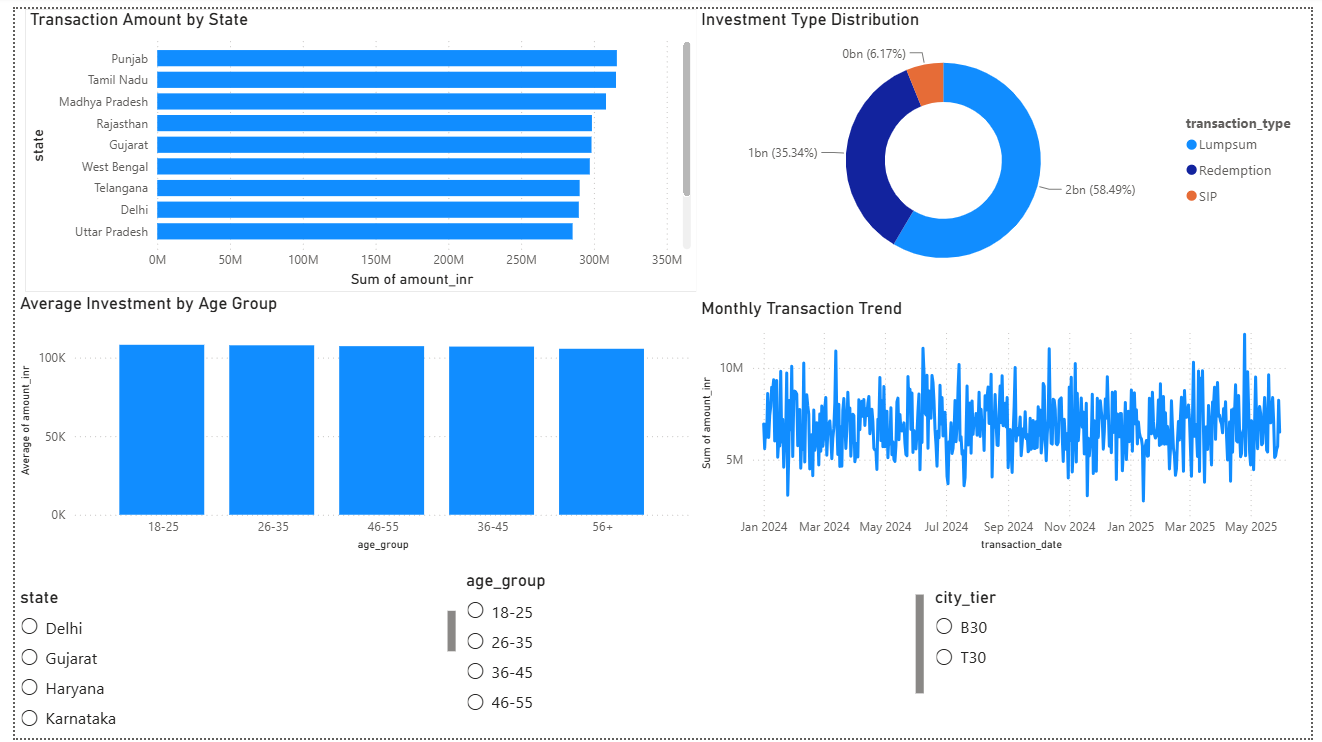

The dashboard page shown, as its layout file describes it:
{"tool":"powerbi","page":{"name":"Investor Analytics","canvas":[1280,720],"ordinal":2},"visuals":[{"type":"clusteredBarChart","title":"Transaction Amount by State","fields":{"Category":["investor_transactions_clean.state"],"Y":["Sum(investor_transactions_clean.amount_inr)"]},"box":[9.9,0,663,280.2],"z":0},{"type":"donutChart","title":"Investment Type Distribution","fields":{"Category":["investor_transactions_clean.transaction_type"],"Y":["Sum(investor_transactions_clean.amount_inr)"]},"box":[672.8,0,607.4,280.2],"z":1000},{"type":"clusteredColumnChart","title":"Average Investment by Age Group","fields":{"Category":["investor_transactions_clean.age_group"],"Y":["Avg(investor_transactions_clean.amount_inr)"]},"box":[0,280.2,672.8,259.3],"z":2000},{"type":"lineChart","title":"Monthly Transaction Trend","fields":{"Y":["Sum(investor_transactions_clean.amount_inr)"],"Category":["investor_transactions_clean.transaction_date"]},"box":[672.8,285.2,607.4,254.3],"z":3000},{"type":"listSlicer","fields":{"Values":["investor_transactions_clean.state"]},"box":[0,570.4,440.7,149.4],"z":4000},{"type":"listSlicer","fields":{"Values":["investor_transactions_clean.age_group"]},"box":[440.7,554.3,463,150.6],"z":5000},{"type":"listSlicer","fields":{"Values":["investor_transactions_clean.city_tier"]},"box":[903.7,570.4,376.5,149.4],"z":6000}]}

Visuals, with their boxes in screenshot pixels (x1, y1, x2, y2), scaled from the page's 1280x720 canvas onto the 1322x742 screenshot:
"Transaction Amount by State" clusteredBarChart: bbox=[10, 0, 695, 289]
"Investment Type Distribution" donutChart: bbox=[695, 0, 1321, 289]
"Average Investment by Age Group" clusteredColumnChart: bbox=[0, 289, 695, 556]
"Monthly Transaction Trend" lineChart: bbox=[695, 294, 1321, 556]
listSlicer - investor_transactions_clean.state: bbox=[0, 588, 455, 741]
listSlicer - investor_transactions_clean.age_group: bbox=[455, 571, 933, 726]
listSlicer - investor_transactions_clean.city_tier: bbox=[933, 588, 1321, 741]
